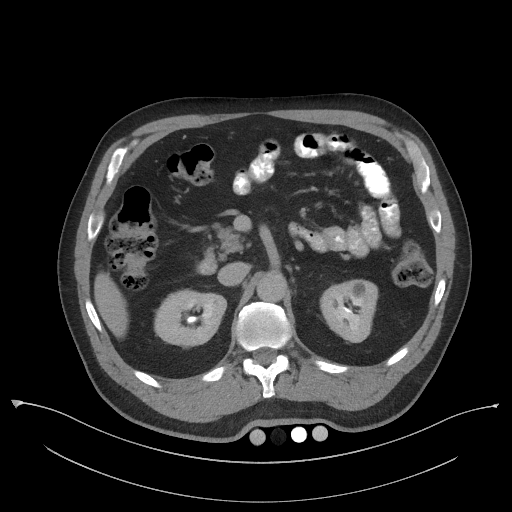Lesion: (346, 280, 371, 302)
